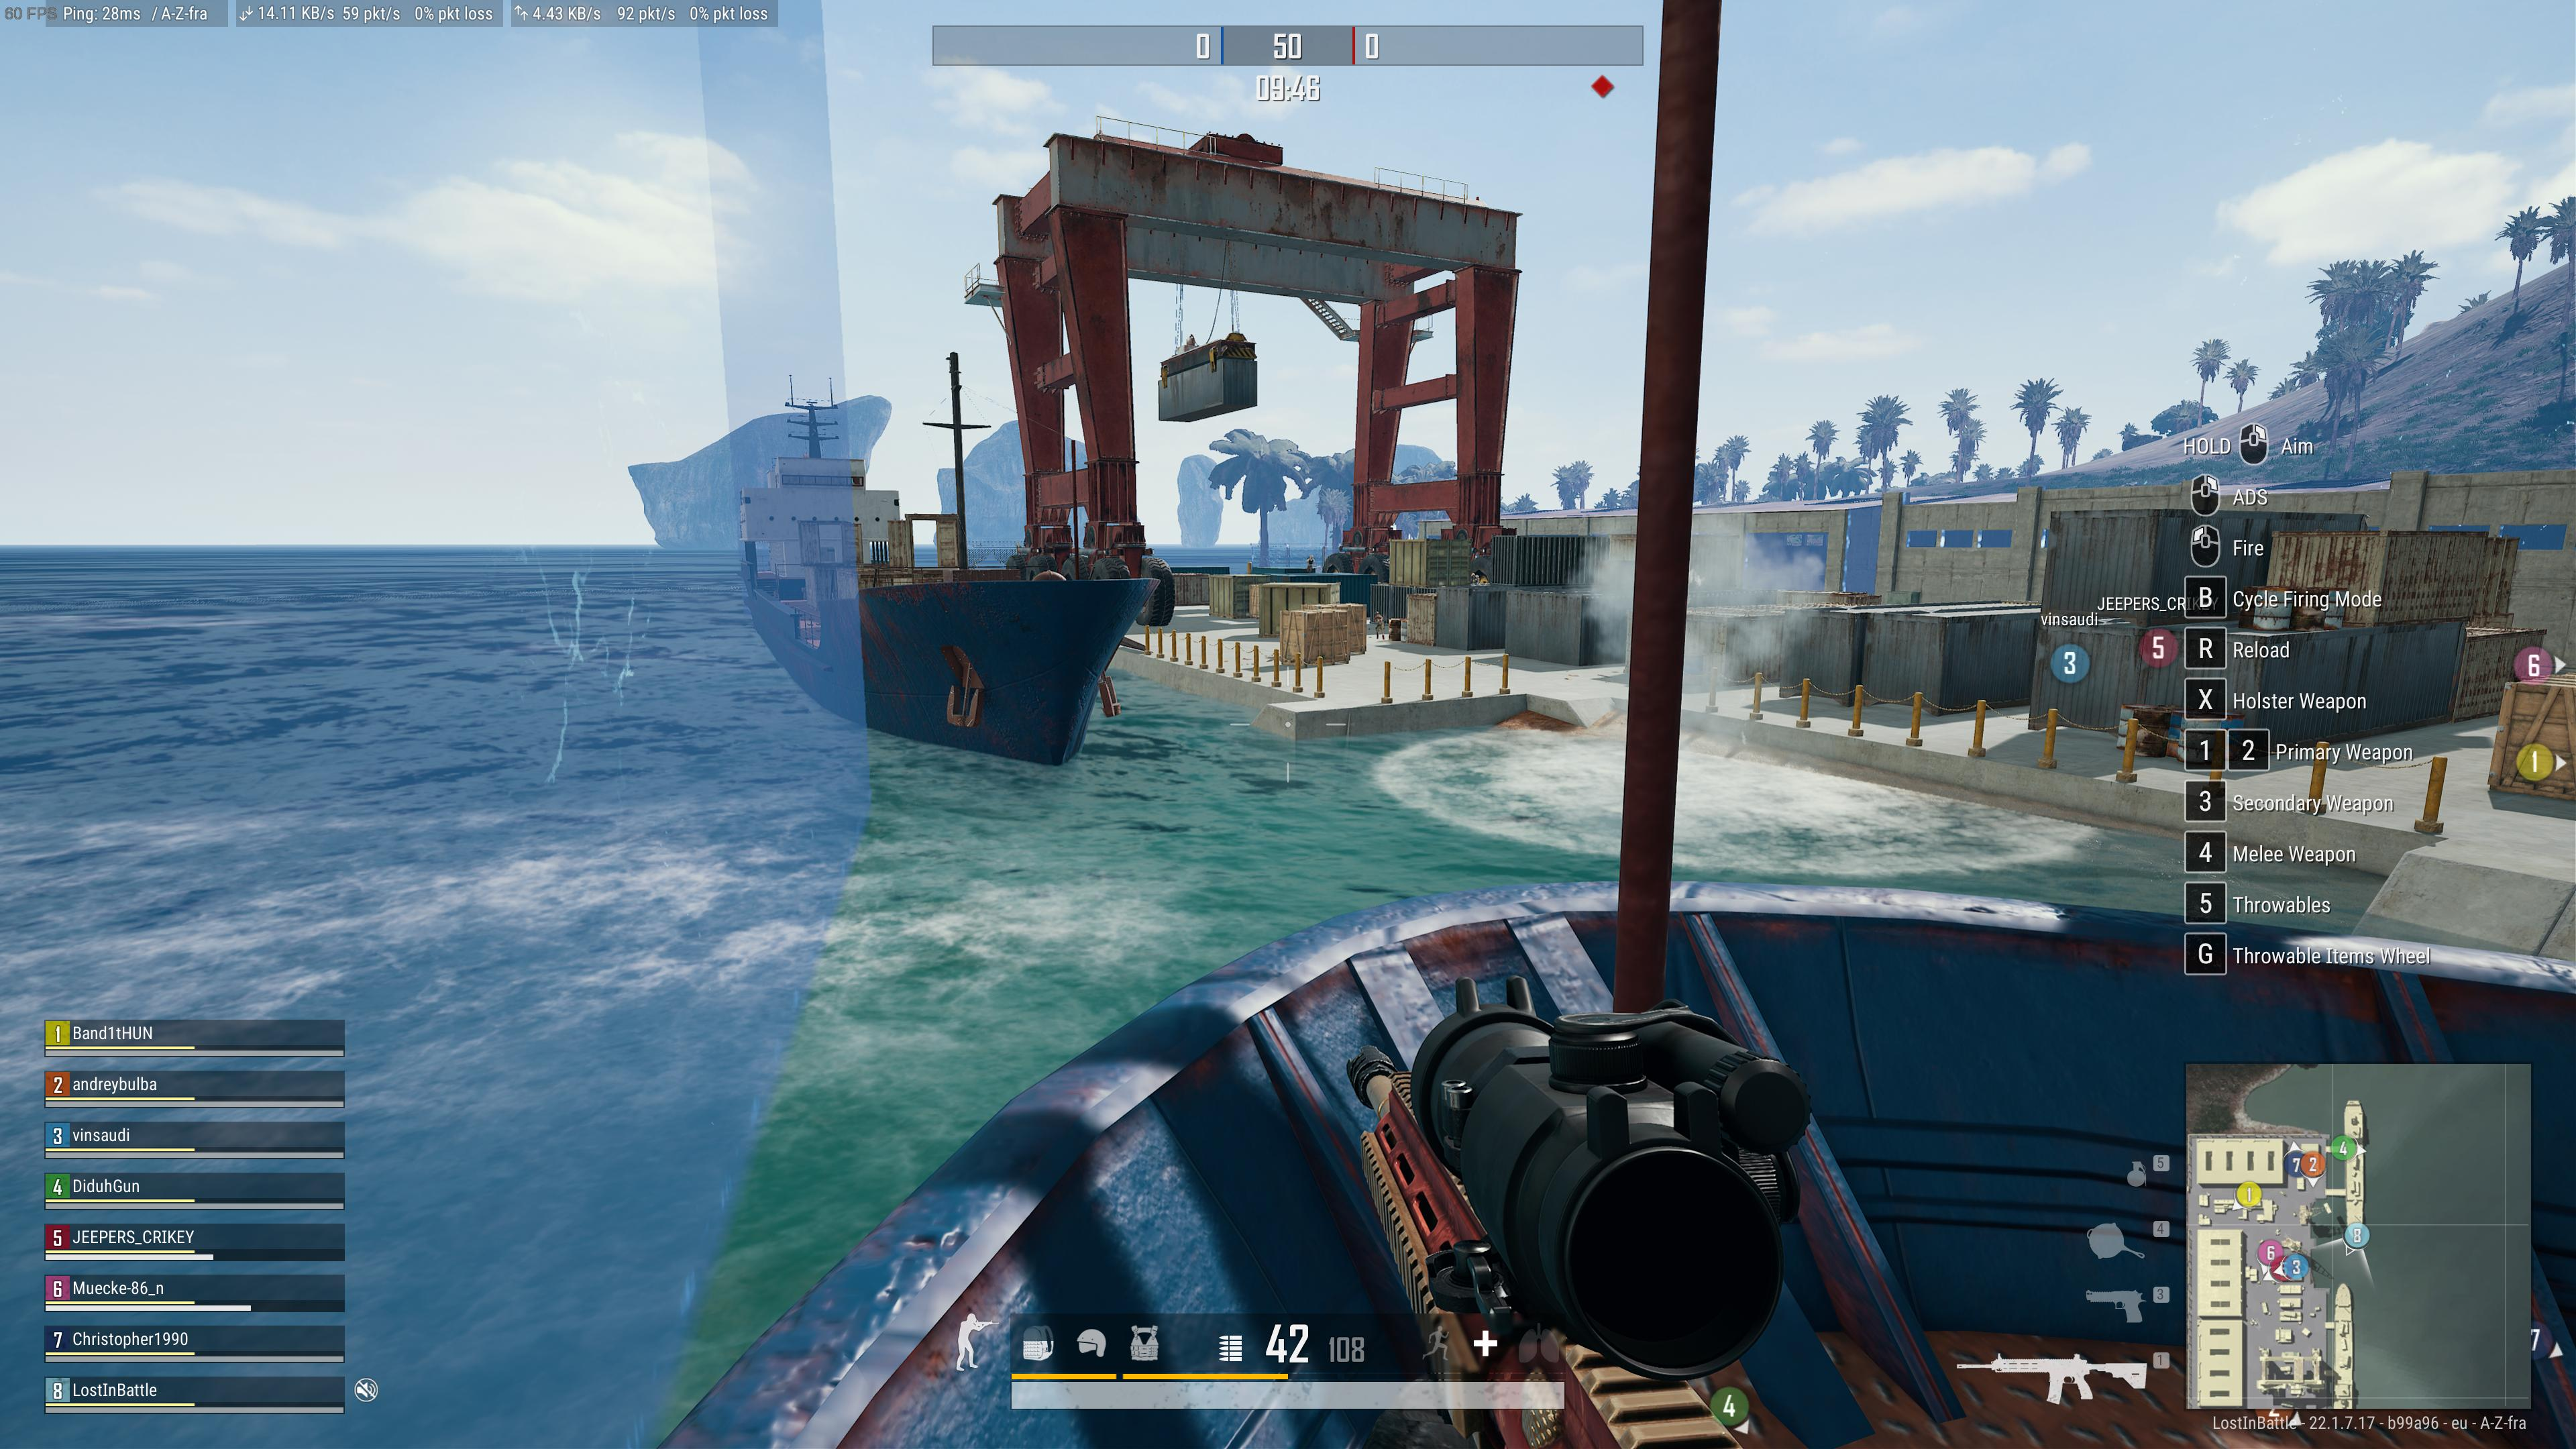enemy: (1373, 610, 1385, 639), (1306, 554, 1316, 571), (1468, 571, 1479, 582)
enemy_head: (1307, 554, 1313, 559), (1375, 610, 1380, 616), (1470, 571, 1476, 577)
